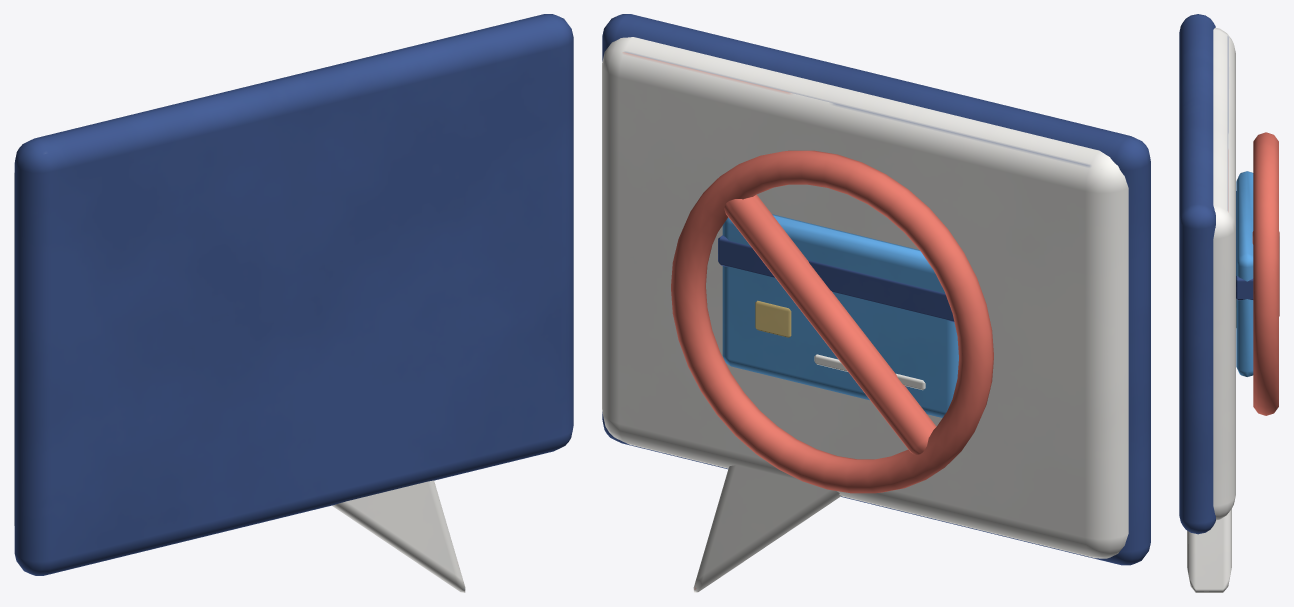
File: Maquininha_NoCardBubble.fbx
3 views of the same model, side by side, from view 1: azimuth 30°, elevation 25°; view 2: azimuth 150°, elevation 25°; view 3: azimuth 270°, elevation 25° (orthographic). The views are drawn at different scales.
Visible parts, largest first — view 1: Maquininha_NoCardBubble; view 2: Maquininha_NoCardBubble; view 3: Maquininha_NoCardBubble.
Part boxes in pixels (left/top/right/bottom): Maquininha_NoCardBubble: left=14, top=14, right=573, bottom=592; Maquininha_NoCardBubble: left=602, top=14, right=1150, bottom=592; Maquininha_NoCardBubble: left=1179, top=14, right=1279, bottom=592.
Size of the model in its own units: 0.64 by 0.6143 by 0.133.
Materials: 1 (1 with a texture image).
